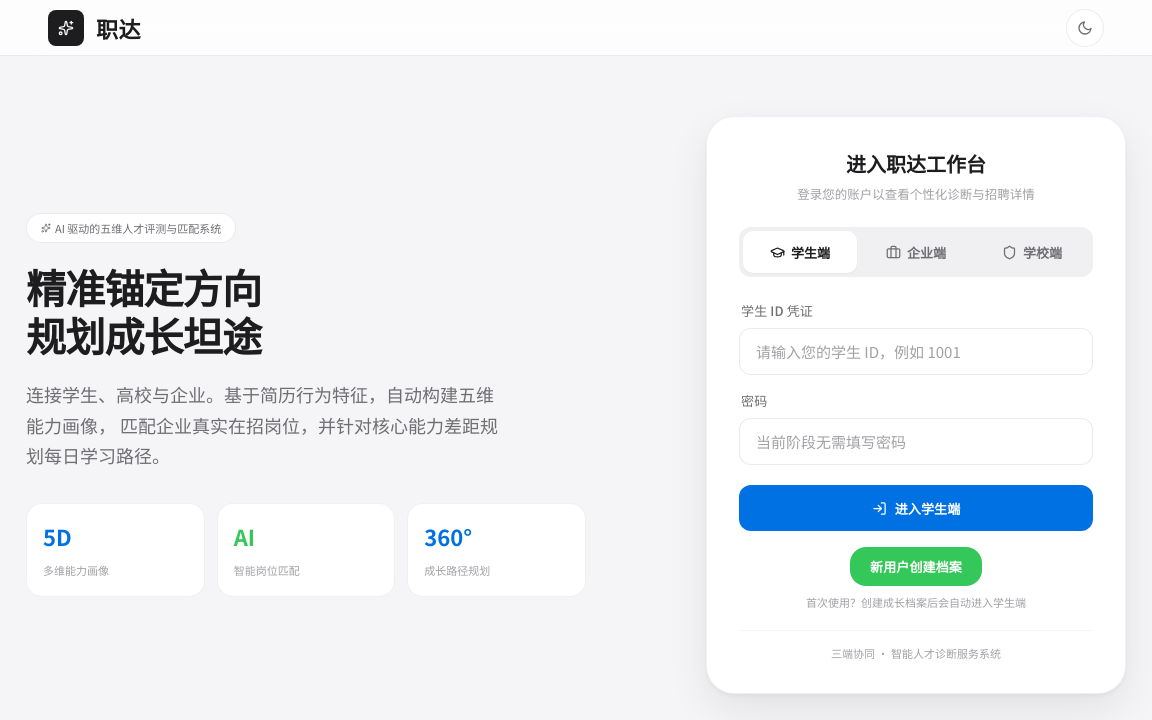
Home - 企业登录状态校验 › 选择 pending 企业提交时显示审核提示
Step 1. Click the button "企业端" → (916,252), box [859,231,973,273]
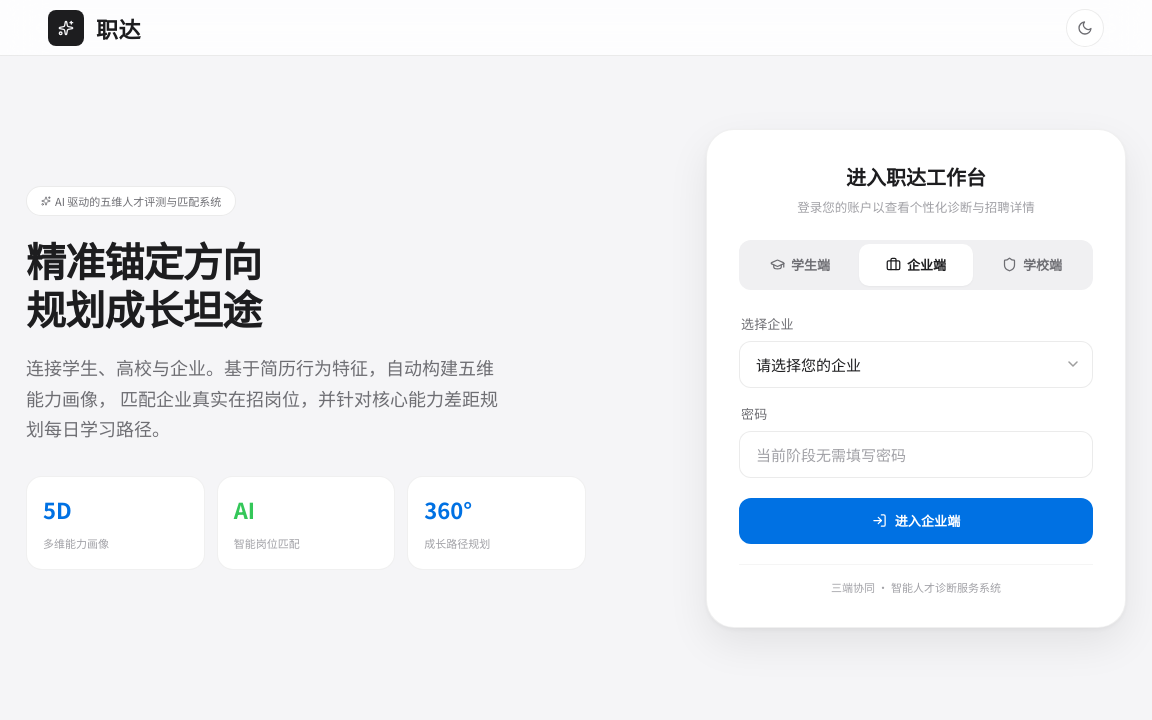
Step 2. Select "待审核企业（待审核）" in the dropdown → (916,364), box [739,340,1093,388]
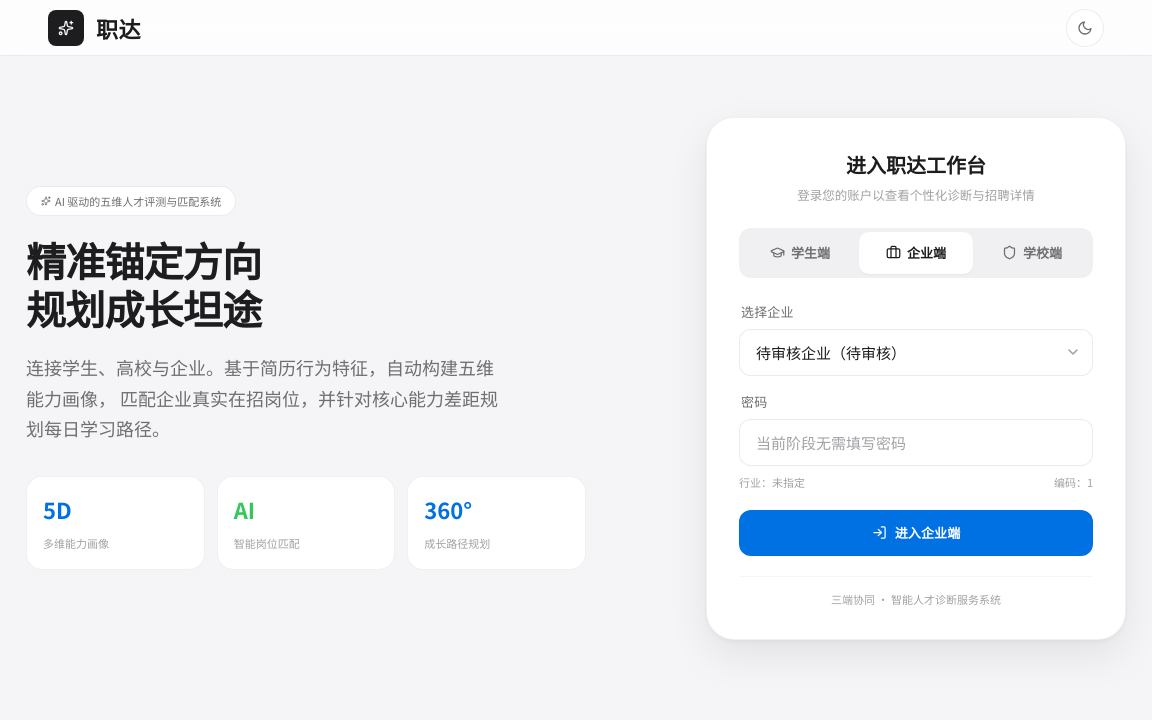
Step 3. Click the button "进入企业端" → (916,532), box [739,510,1093,556]
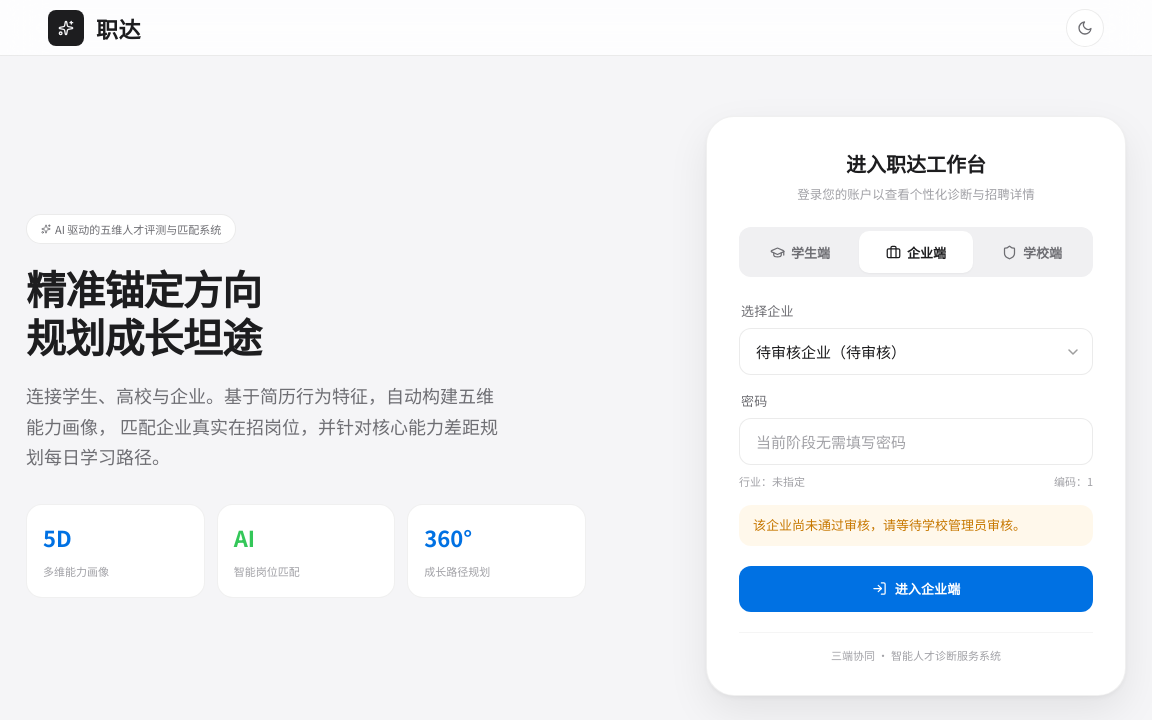
Check: the text "该企业尚未通过审核，请等待学校管理员审核。" is shown, box [739,505,1093,546]
